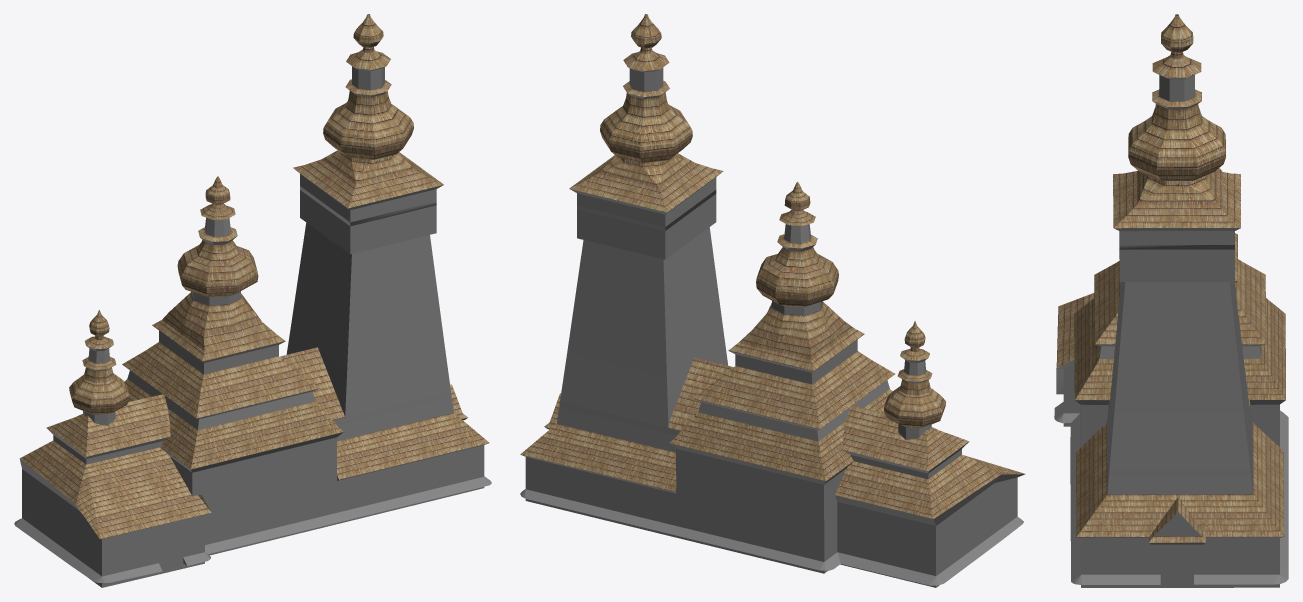
Rendered from cerkiwew.fbx.
3 views of the same model, side by side, from view 1: azimuth 30°, elevation 25°; view 2: azimuth 150°, elevation 25°; view 3: azimuth 270°, elevation 25° (orthographic). The views are drawn at different scales.
Parts seen in each view (by area): view 1: cerkiew_low; view 2: cerkiew_low; view 3: cerkiew_low.
Boxes of the visible parts, box(x1,y1,x2,y2) form: cerkiew_low: box(14, 14, 491, 587); cerkiew_low: box(520, 14, 1025, 587); cerkiew_low: box(1054, 14, 1288, 587).
Bounding box in the file's own units: 778 × 836 × 334.
